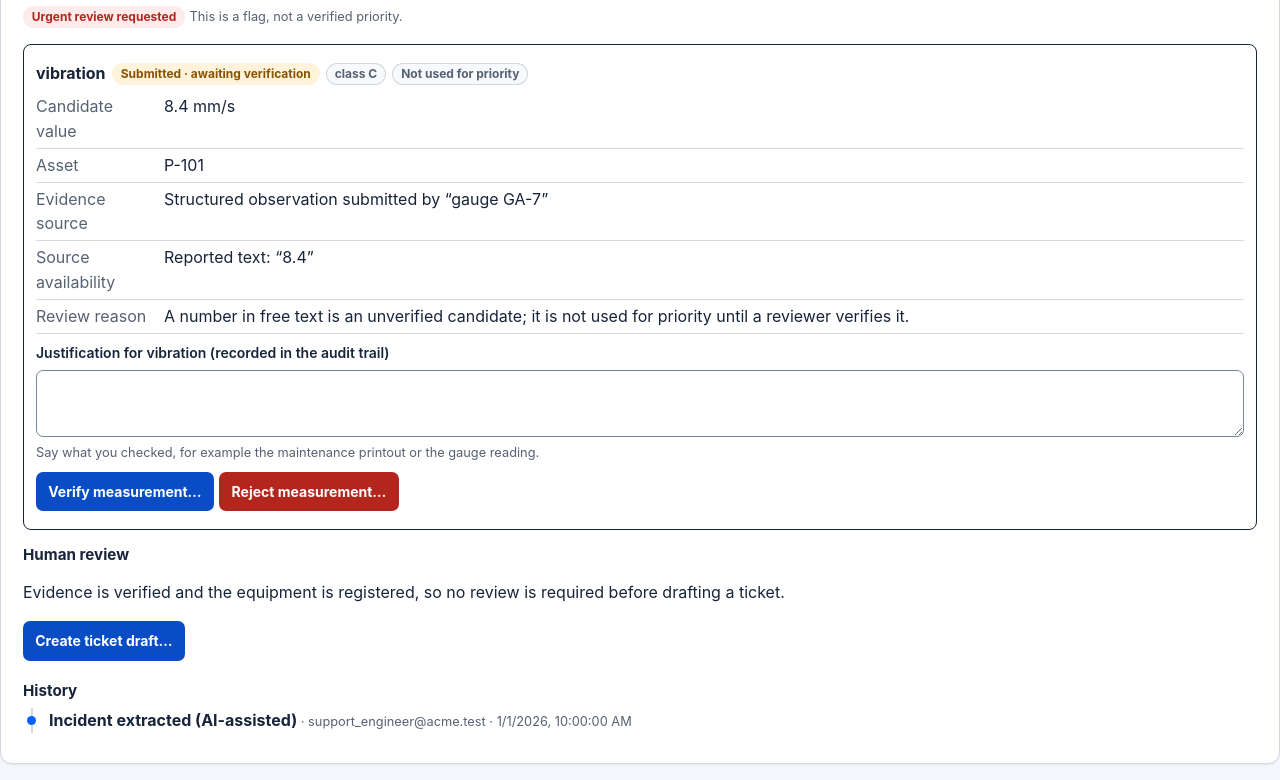
Test: measurement review panel › shows the priority the server returns, including no change (nothing is hardcoded)
(page scrolled)
In the text box labelled "Justification for vibration (recorded in the audit trail)": (640, 404) left=36, top=370, right=1244, bottom=437, type "Checked the maintenance printout."
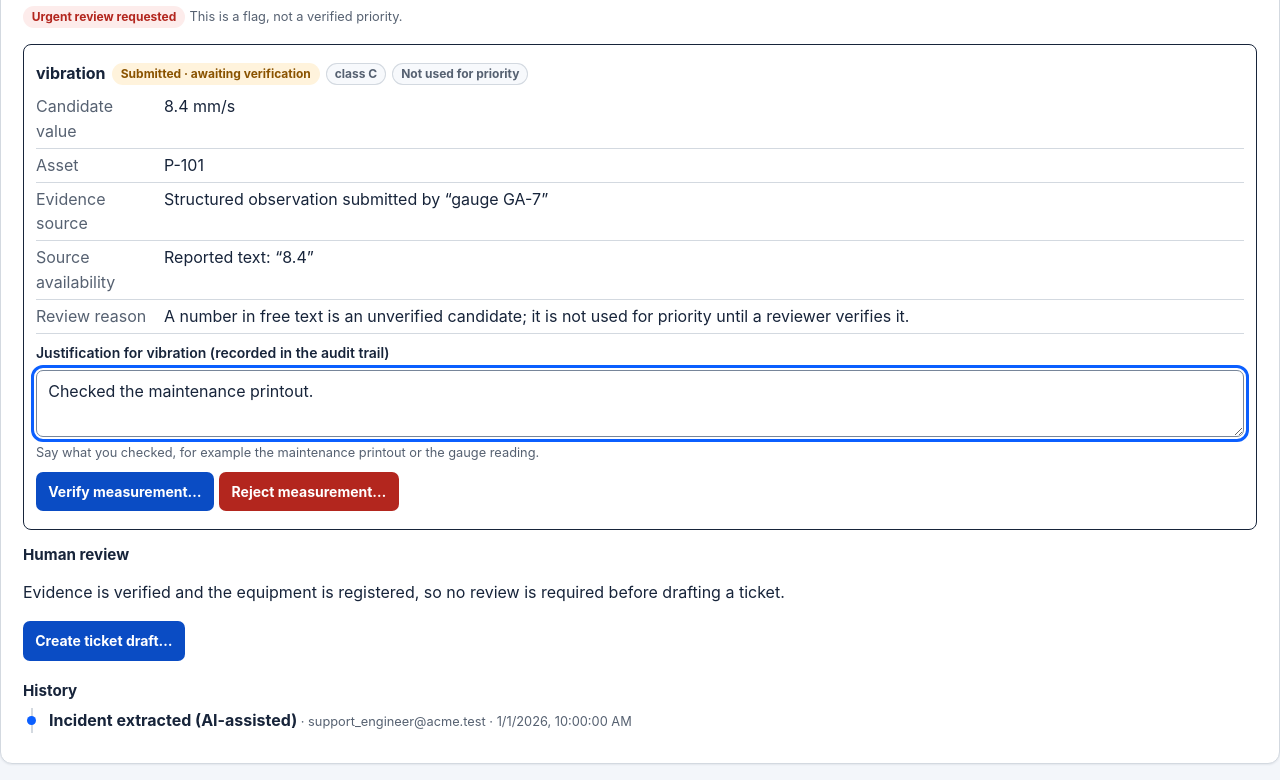
Click the button "Verify measurement…": (125, 491) left=36, top=472, right=214, bottom=511
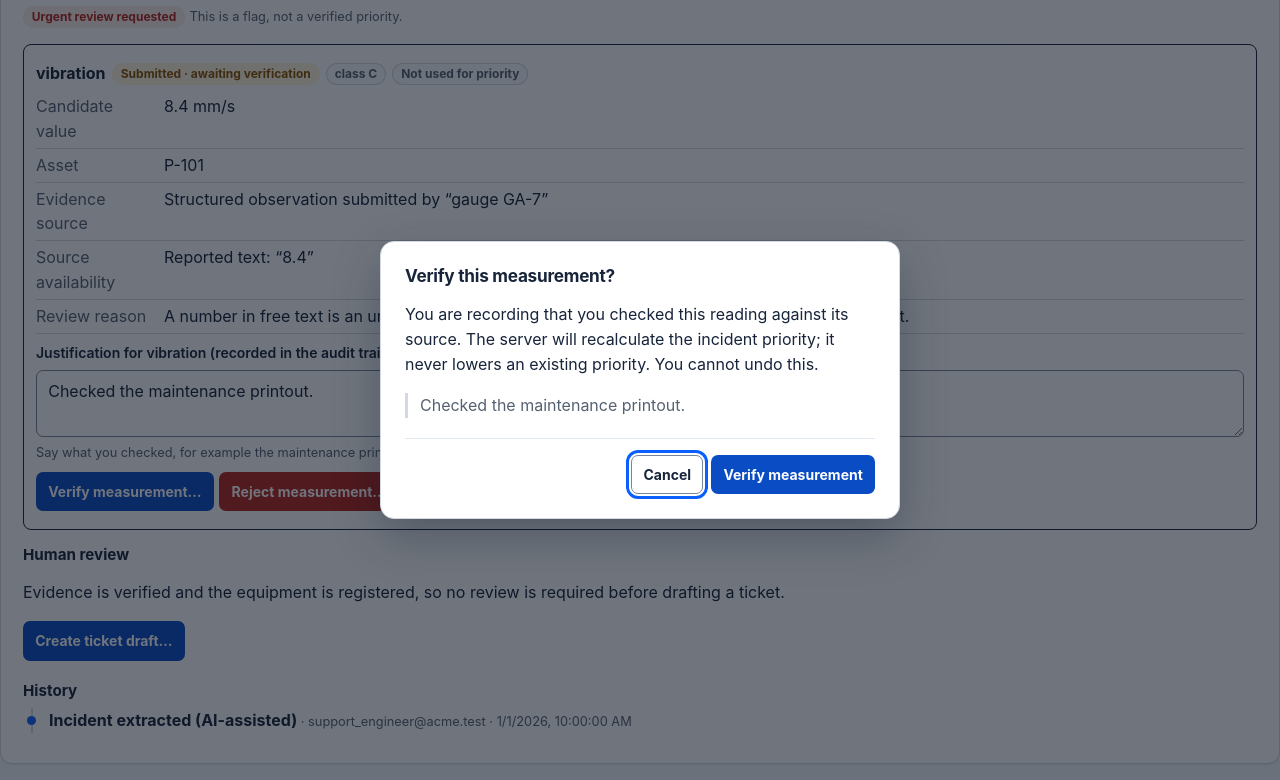
Click the button "Verify measurement": (793, 474) left=711, top=455, right=875, bottom=494
(page scrolled)
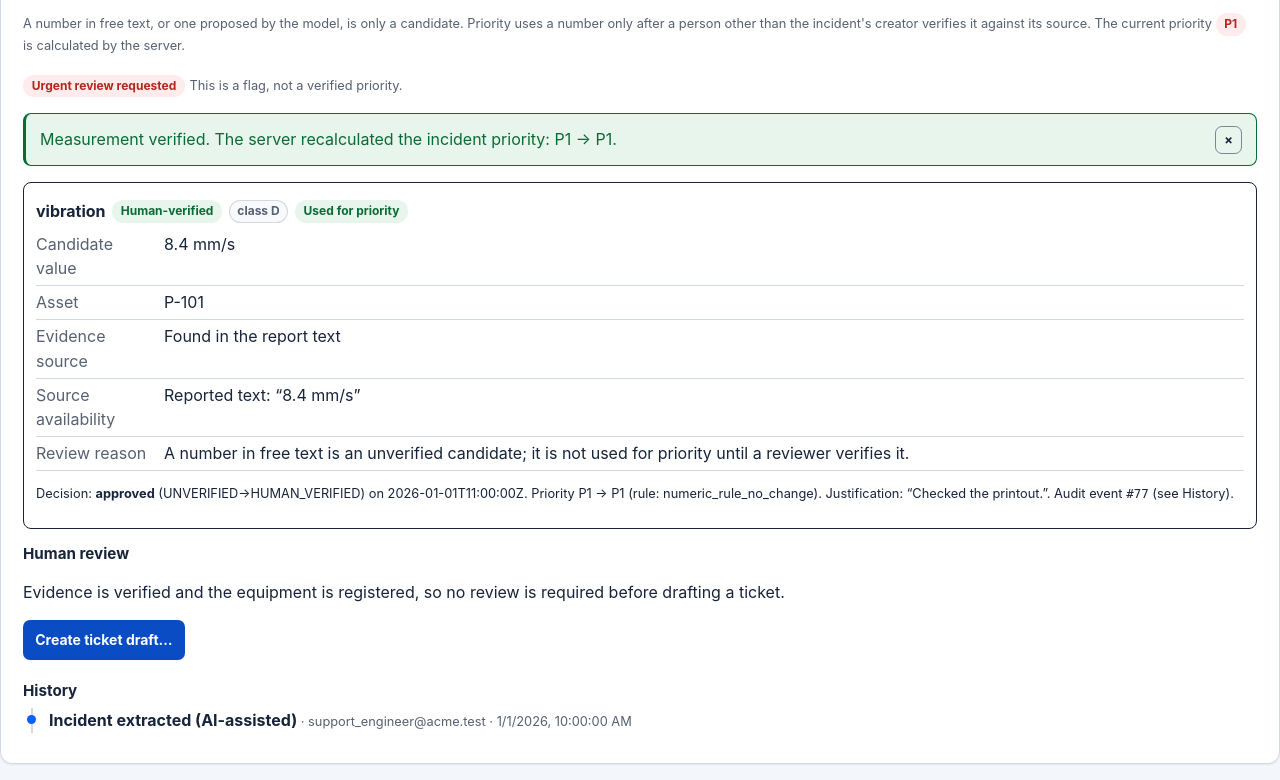
Now the text "Priority P1 → P1 (rule: numeric_rule_no_change)" is shown, box left=36, top=484, right=1244, bottom=504
